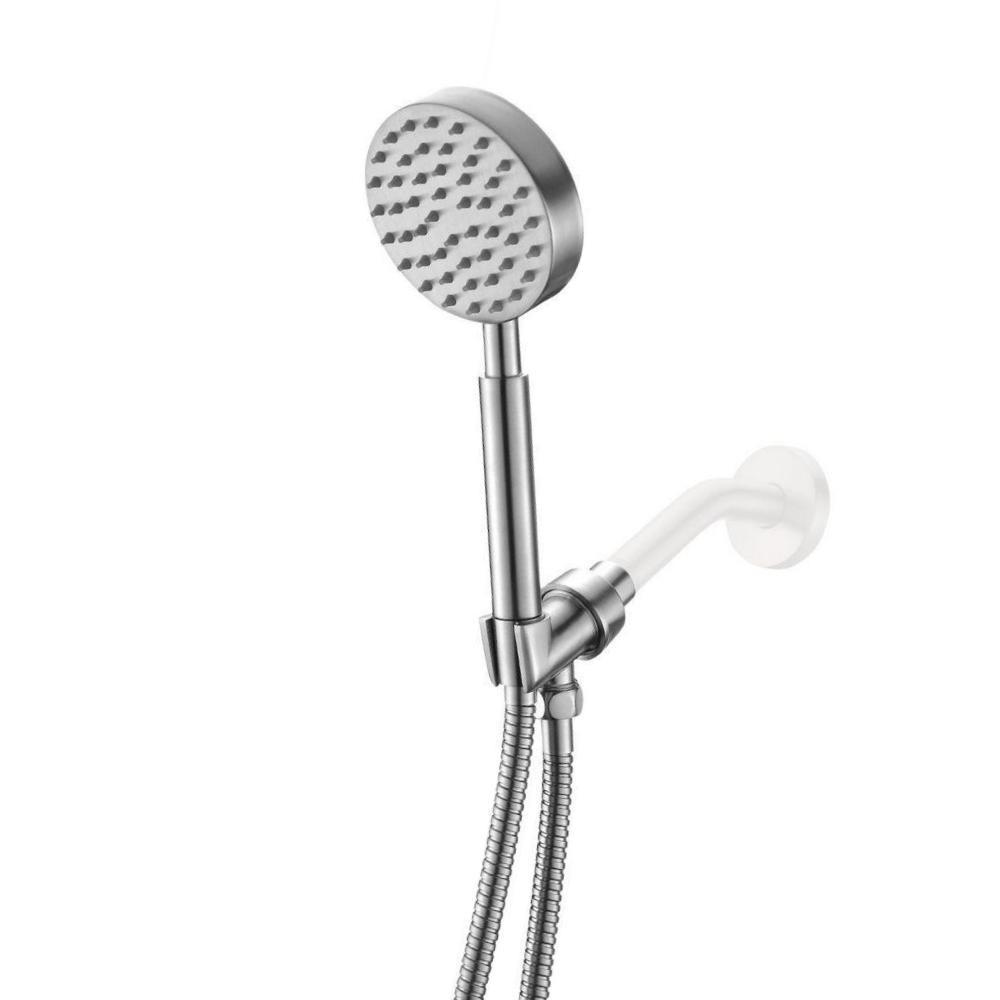Ducha: (339, 64, 821, 999)
